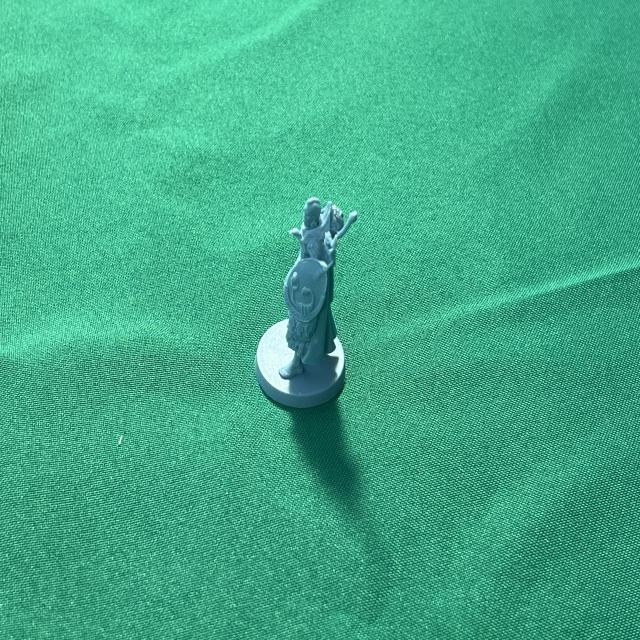isis_follower: (248, 188, 350, 415)
